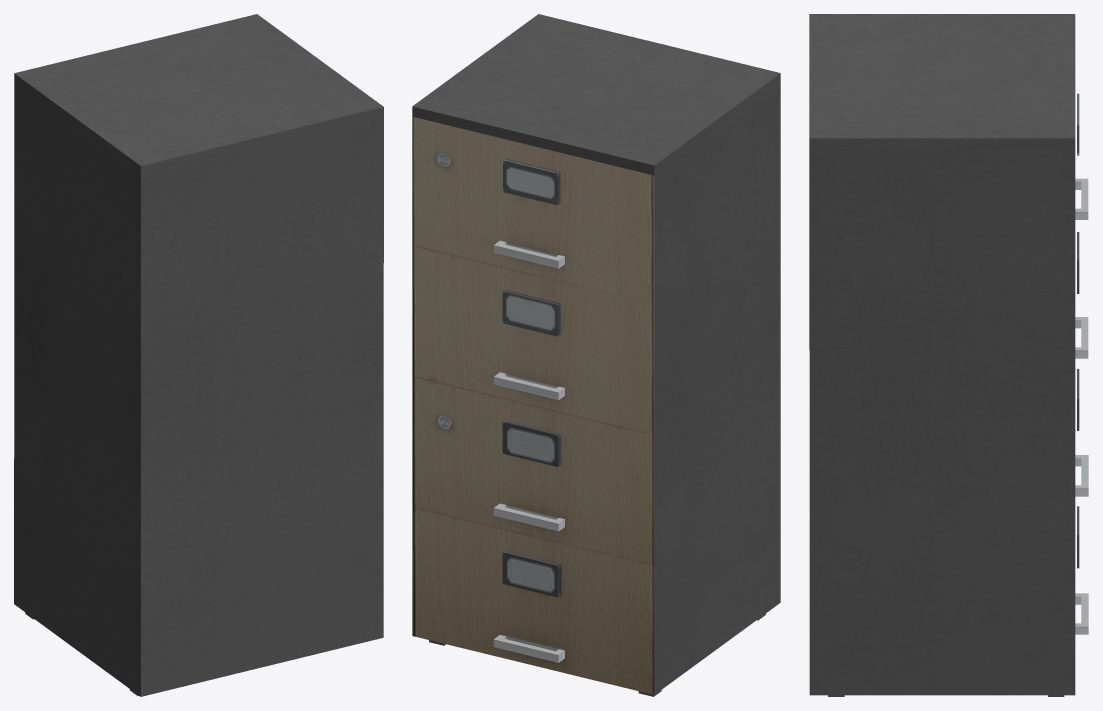
The model's file is SCP Cabinet.obj.
The picture shows the model from 3 angles, left to right: view 1: azimuth 30°, elevation 25°; view 2: azimuth 150°, elevation 25°; view 3: azimuth 270°, elevation 25°; orthographic projection. The views are drawn at different scales.
Parts seen in each view (by area): view 1: ScpCabinet1; view 2: ScpCabinet1; view 3: ScpCabinet1.
Part boxes in pixels (bbox=[...]): ScpCabinet1: bbox=[14, 14, 383, 696]; ScpCabinet1: bbox=[412, 14, 780, 696]; ScpCabinet1: bbox=[809, 14, 1088, 696].
Bounding box in the file's own units: 2.54 × 5.37 × 2.4.
1 material, 1 textured.
